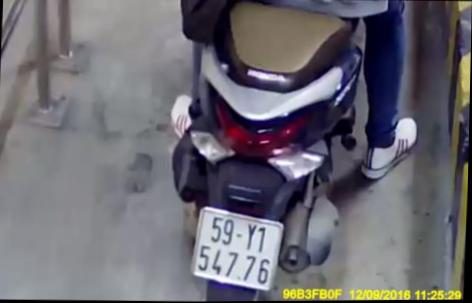LP: (187, 202, 286, 295)
